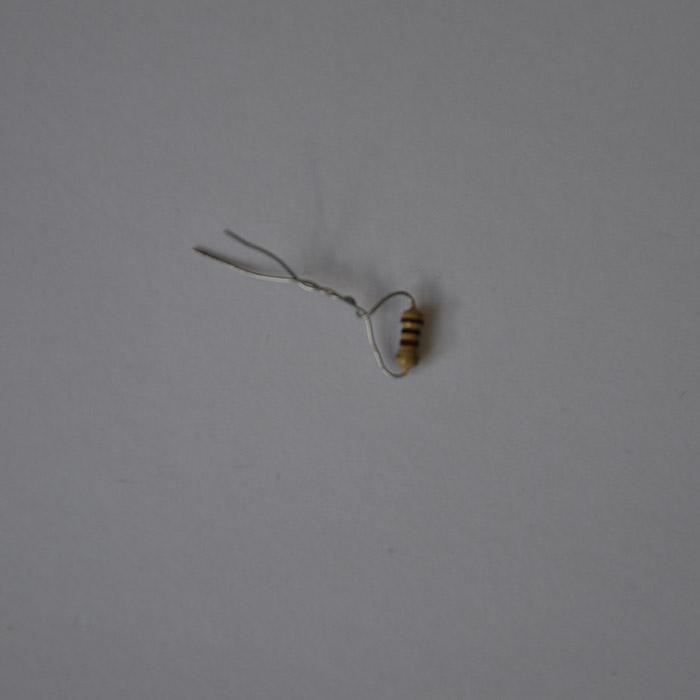resistor: (395, 307, 424, 373)
